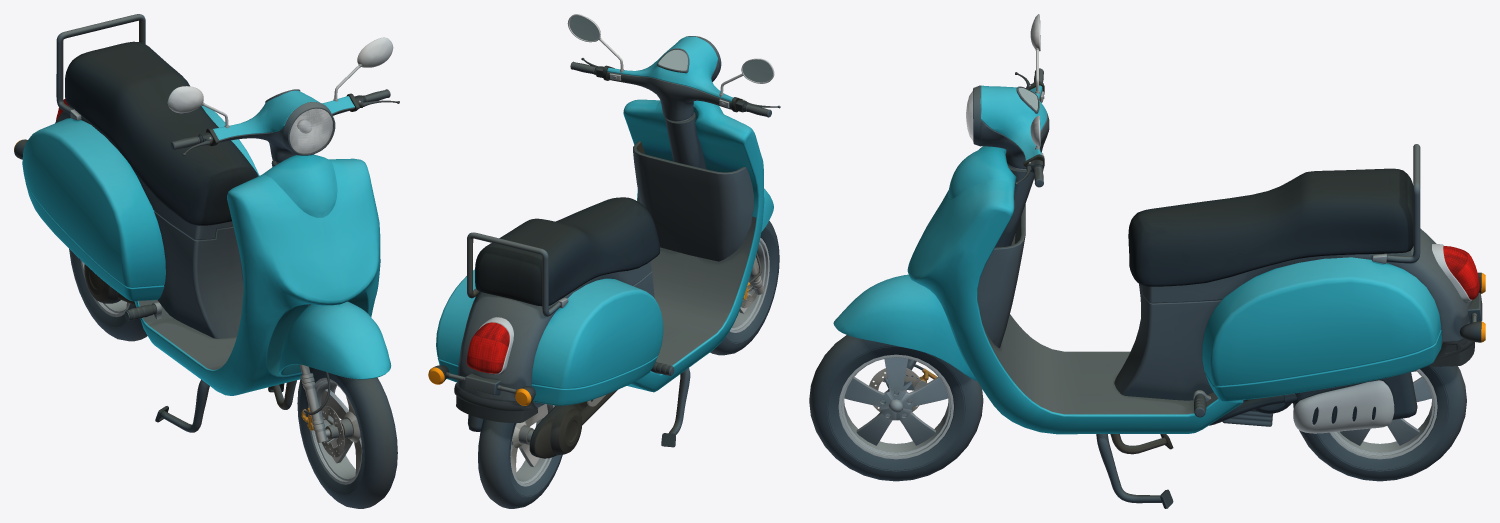
File: Scooter.glb
3 renders of one model, left to right at view 1: azimuth 30°, elevation 25°; view 2: azimuth 150°, elevation 25°; view 3: azimuth 270°, elevation 25°, orthographic. The views are drawn at different scales.
Parts seen in each view (by area): view 1: scooter.2, scooter_glass.3; view 2: scooter.2; view 3: scooter.2.
Part boxes in pixels (<box>): scooter.2: <box>14,14,399,508</box>; scooter_glass.3: <box>289,108,333,154</box>; scooter.2: <box>428,14,780,508</box>; scooter.2: <box>809,14,1485,508</box>.
Size of the model in its own units: 0.4691 by 0.7782 by 1.16.
Materials: 2 (2 with a texture image).
